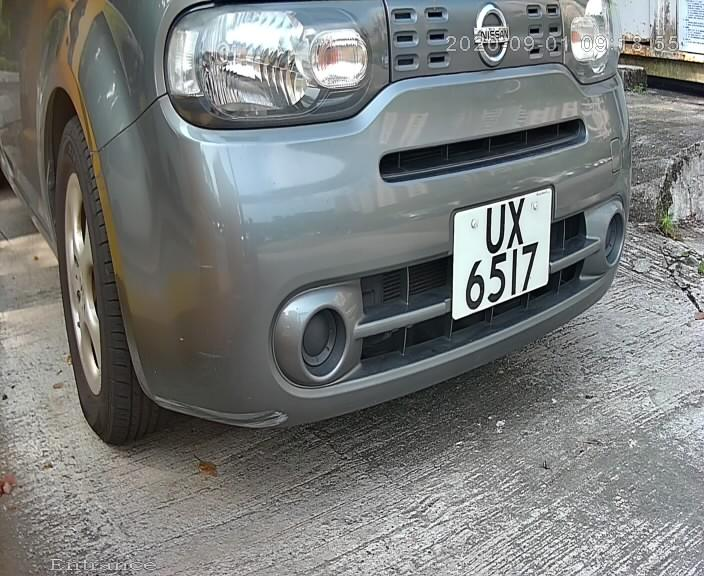License Plate: (447, 181, 551, 325)
